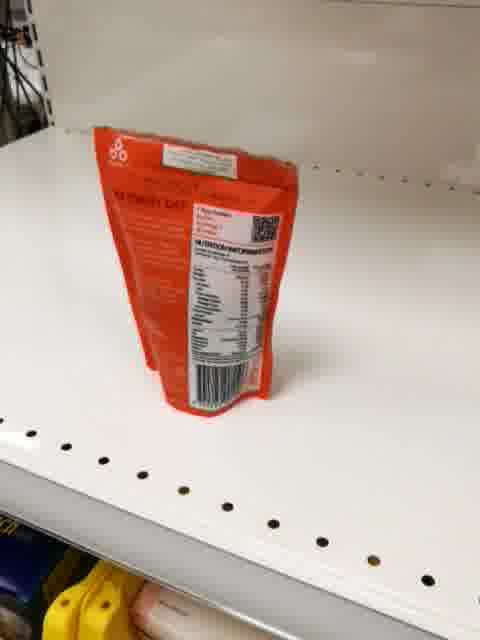whitechia: (93, 122, 299, 419)
